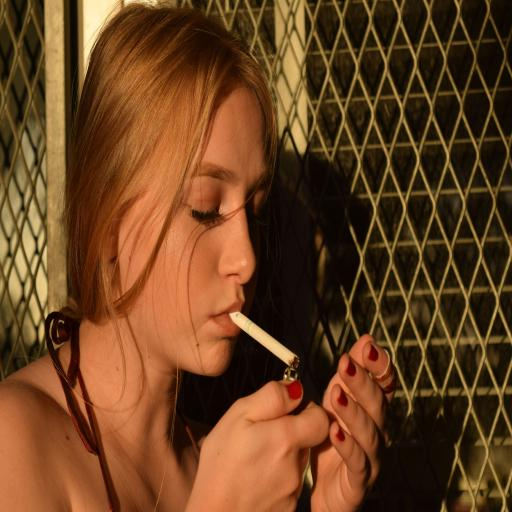lighter: (273, 336, 302, 398)
